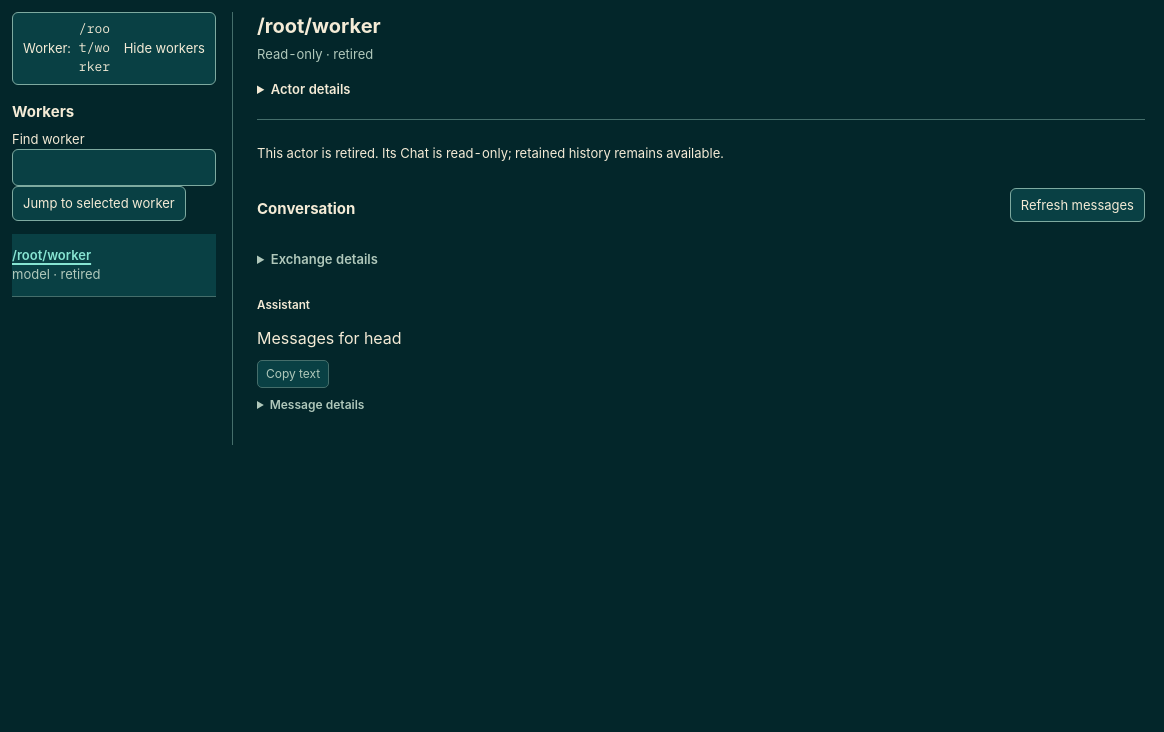
Test: exact worker Chat › keeps fetched retired history when refresh fails and retries protected history
Expected: the text "Messages for head" is shown, [257, 328, 402, 348]
Click the button "Refresh messages" at point(1077, 205), box [1010, 188, 1145, 222]
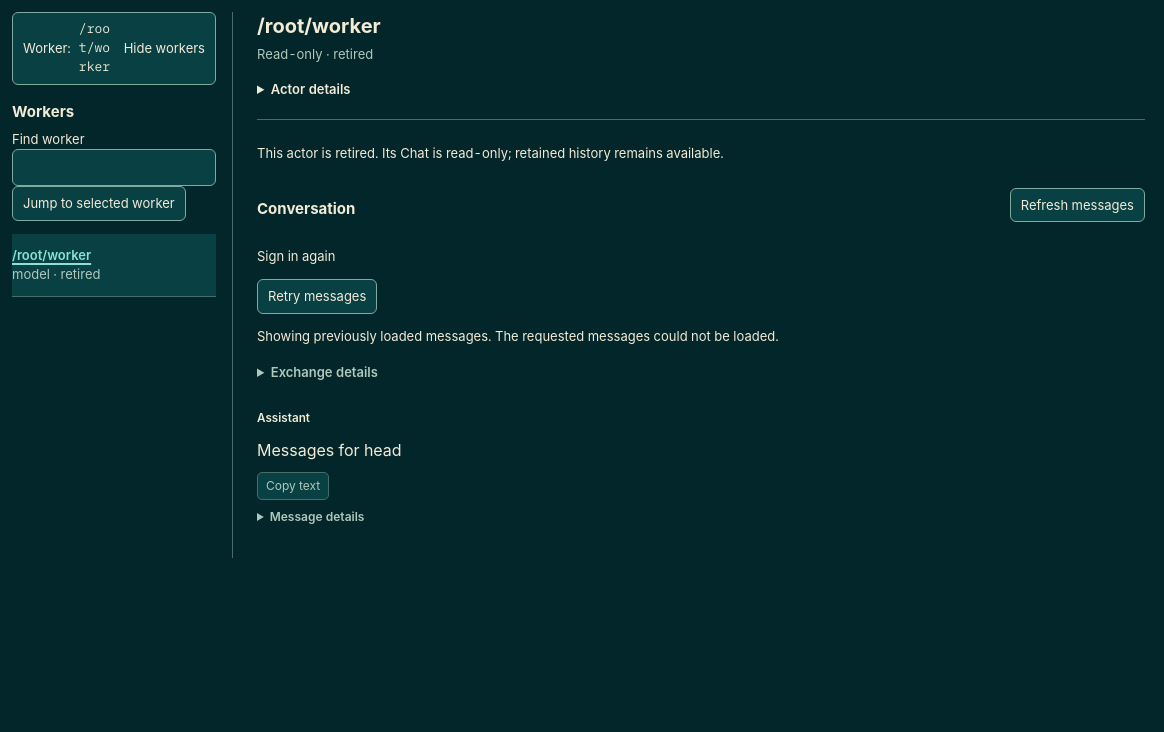
Expected: the text "Messages for head" is shown, [257, 440, 402, 460]
Expected: the text "Sign in again" is shown, [257, 248, 335, 264]
Click the button "Retry messages" at point(317, 297), box [257, 279, 377, 314]
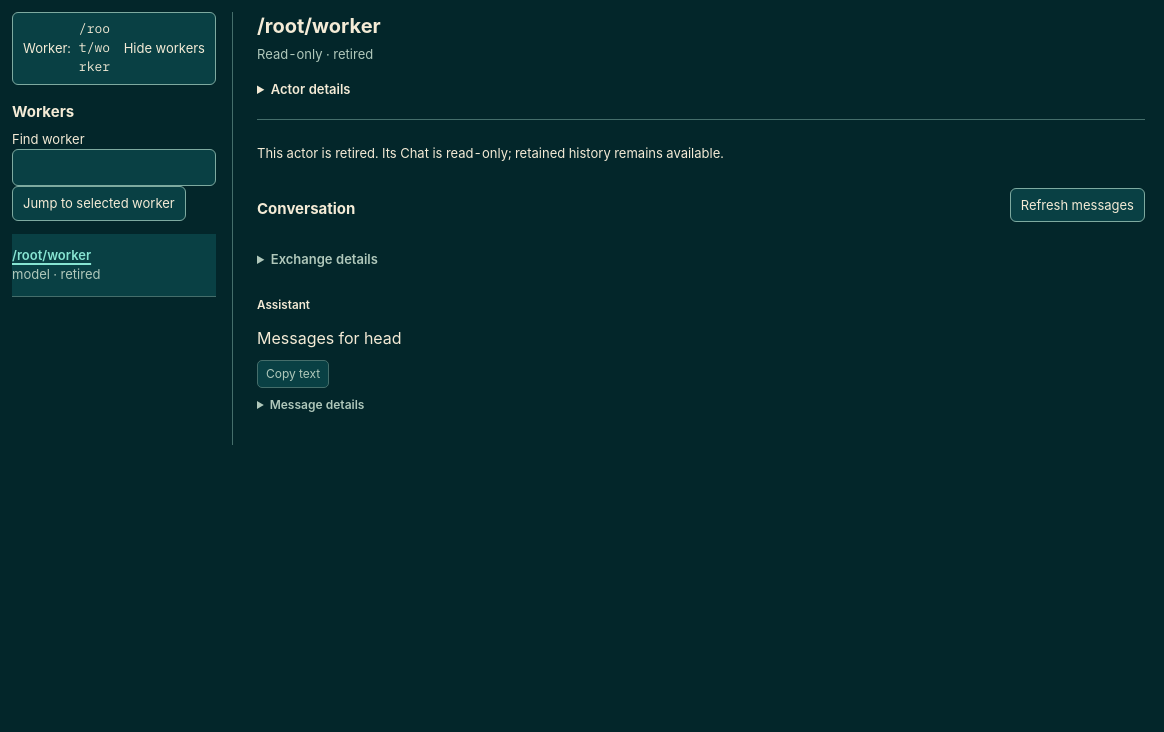
Expected: the text "Sign in again" is gone
